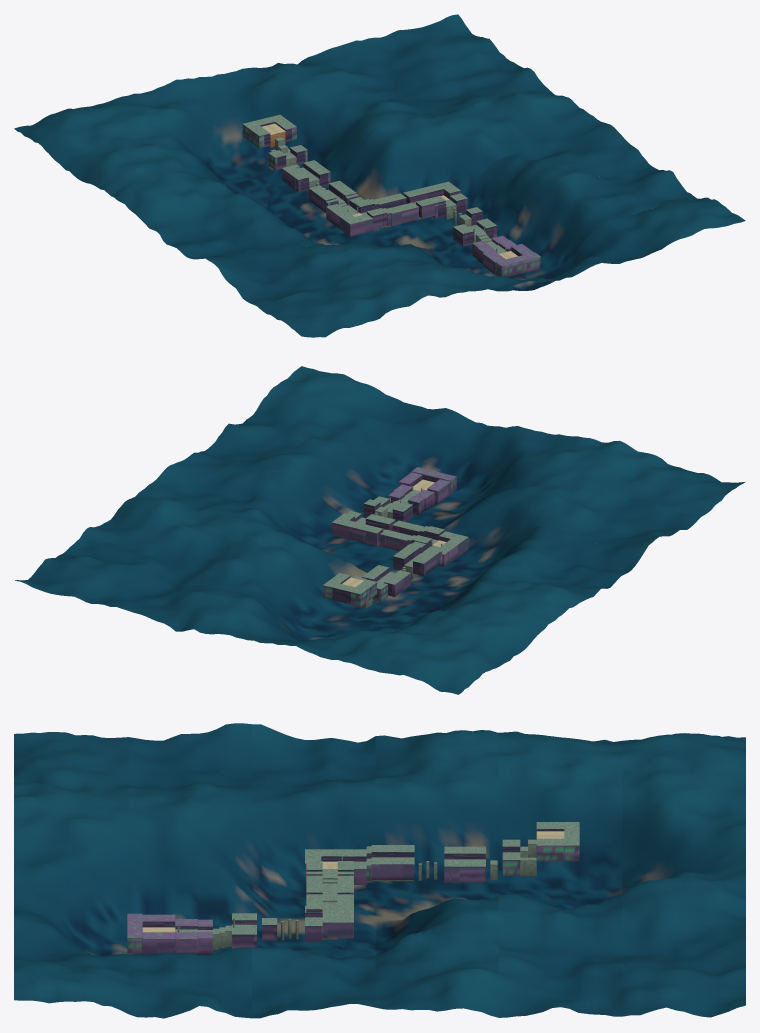
File: sunken_temple_terrain.glb
The picture shows the model from 3 angles, top to bottom: view 1: azimuth 30°, elevation 25°; view 2: azimuth 150°, elevation 25°; view 3: azimuth 270°, elevation 25°; orthographic projection. The views are drawn at different scales.
Visible parts, largest first — view 1: backdrop_5, backdrop_3, backdrop_4, backdrop_1, backdrop_2, backdrop_0, terrain_E, terrain_I, terrain_J, terrain_A, terrain_F, terrain_D (+3 smaller); view 2: backdrop_0, backdrop_1, backdrop_4, backdrop_2, backdrop_5, backdrop_3, terrain_E, terrain_J, terrain_G, terrain_A, terrain_I, terrain_F (+2 smaller); view 3: backdrop_5, backdrop_4, backdrop_3, backdrop_0, backdrop_1, backdrop_2, terrain_E, terrain_I, terrain_J, terrain_A, terrain_G, terrain_B (+3 smaller).
Boxes of the visible parts, x1,y1,x2,y2 form: backdrop_5: [14, 14, 506, 166]; backdrop_3: [111, 92, 603, 238]; backdrop_4: [63, 58, 554, 202]; backdrop_1: [208, 166, 700, 305]; backdrop_2: [160, 122, 651, 265]; backdrop_0: [257, 197, 745, 337]; terrain_E: [354, 181, 460, 228]; terrain_I: [268, 145, 330, 193]; terrain_J: [242, 114, 296, 153]; terrain_A: [483, 244, 540, 277]; terrain_F: [326, 197, 373, 236]; terrain_D: [432, 193, 482, 226]; backdrop_0: [257, 366, 745, 516]; backdrop_1: [208, 410, 700, 547]; backdrop_4: [63, 517, 554, 661]; backdrop_2: [159, 449, 651, 592]; backdrop_5: [15, 554, 506, 694]; backdrop_3: [111, 476, 603, 626]; terrain_E: [331, 513, 444, 551]; terrain_J: [323, 573, 377, 608]; terrain_G: [393, 543, 442, 579]; terrain_A: [399, 467, 456, 503]; terrain_I: [354, 565, 410, 601]; terrain_F: [412, 531, 468, 566]; backdrop_5: [622, 733, 745, 1017]; backdrop_4: [499, 731, 622, 1017]; backdrop_3: [375, 730, 498, 1017]; backdrop_0: [14, 732, 128, 1013]; backdrop_1: [128, 723, 251, 1018]; backdrop_2: [252, 724, 375, 1018]; terrain_E: [306, 861, 353, 939]; terrain_I: [444, 839, 520, 882]; terrain_J: [520, 822, 579, 876]; terrain_A: [127, 913, 175, 954]; terrain_G: [366, 845, 414, 882]; terrain_B: [175, 919, 231, 954].
Bounding box in the file's own units: 518 × 62.9 × 581.
